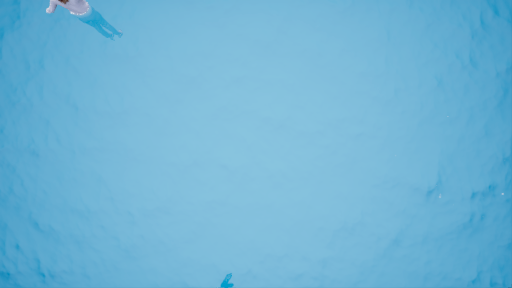person: (46, 1, 123, 43)
